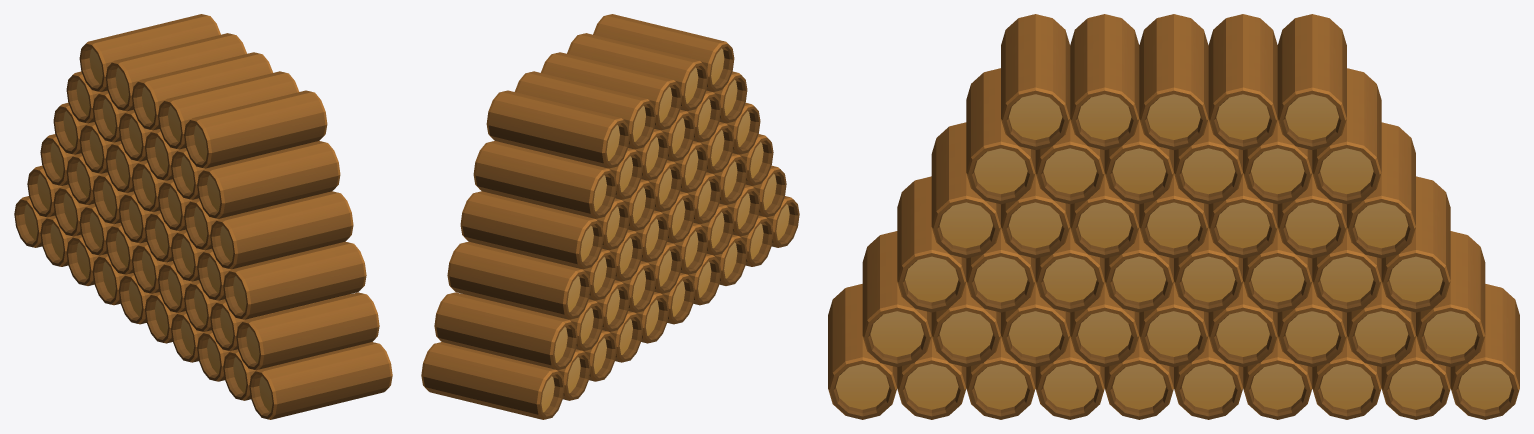
File: Wood_Stack.fbx
3 renders of one model, left to right at view 1: azimuth 30°, elevation 25°; view 2: azimuth 150°, elevation 25°; view 3: azimuth 270°, elevation 25°, orthographic. The views are drawn at different scales.
Visible parts, largest first — view 1: WoodStack; view 2: WoodStack; view 3: WoodStack.
Boxes of the visible parts, x1,y1,x2,y2 form: WoodStack: [14, 14, 392, 419]; WoodStack: [421, 14, 799, 419]; WoodStack: [828, 14, 1519, 419].
Size of the model in its own units: 122 by 248 by 467.
